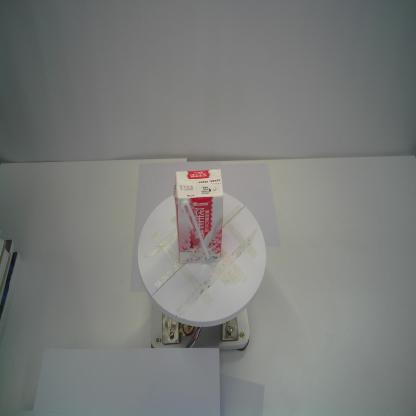Milk: (172, 168, 225, 266)
